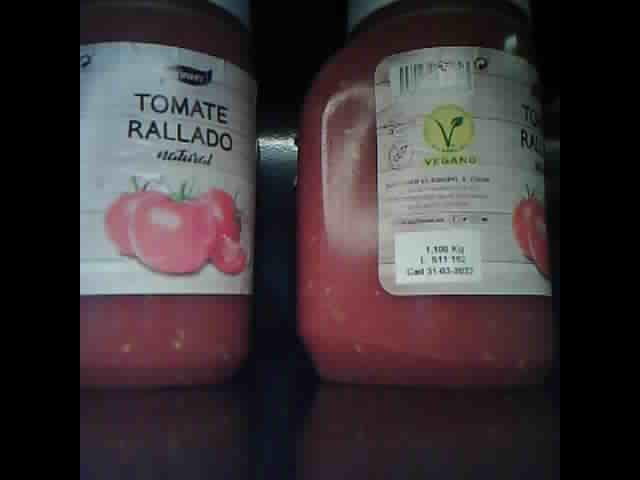tomate: (298, 3, 547, 386), (82, 3, 255, 389)
